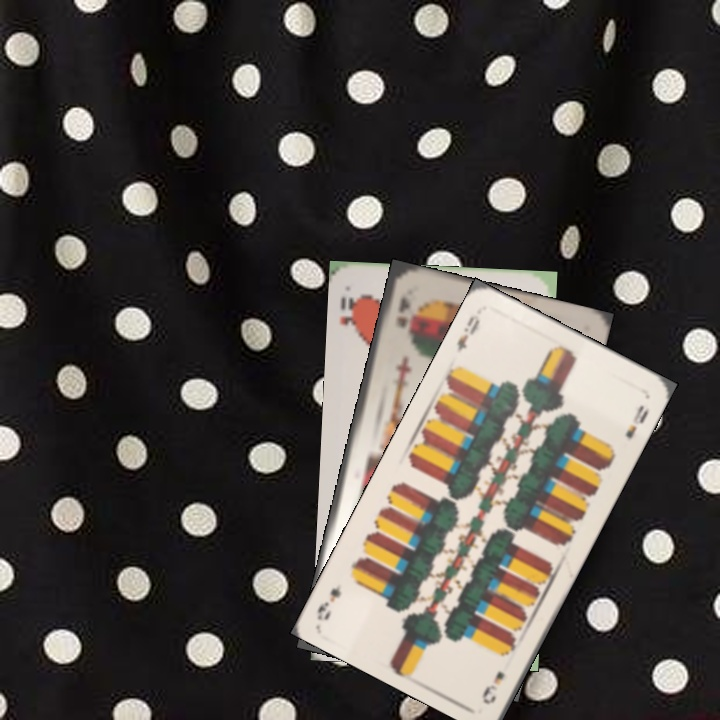E9: (452, 311, 483, 355), (477, 667, 508, 707)
HO: (336, 290, 362, 341)
SK: (393, 291, 412, 330)
